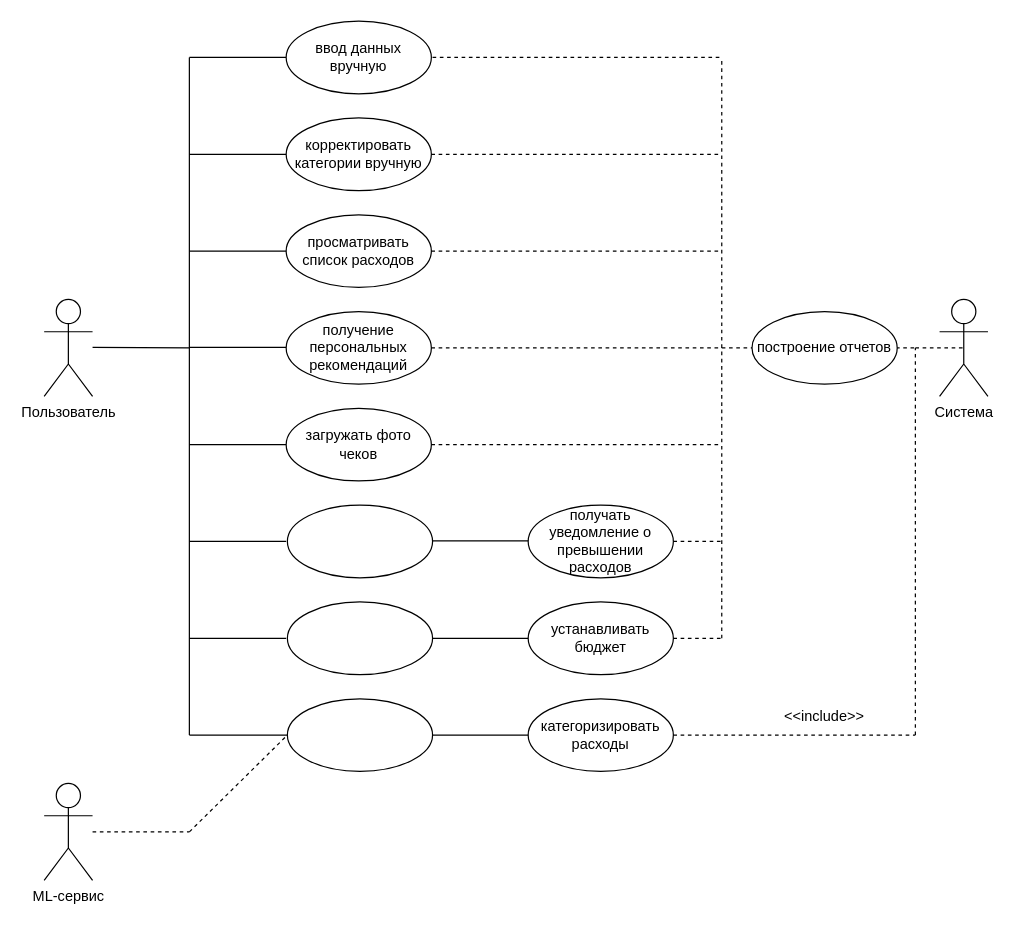
This 1013x927 diagram has some shape labels left out. Here are the shapes that lost their labels. From the top down, the centre of each, then its label:
[359,541]: просмотр отчетов и графиков
[359,638]: фильтровать расходы
[359,734]: распознавать данные из чека
